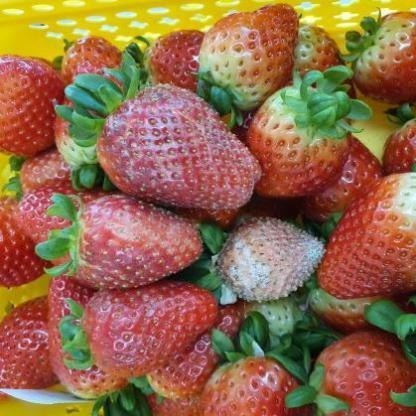Strawberry_Powdery_Mildew_Fruit: (95, 82, 263, 212), (68, 195, 205, 290), (213, 216, 327, 304)
